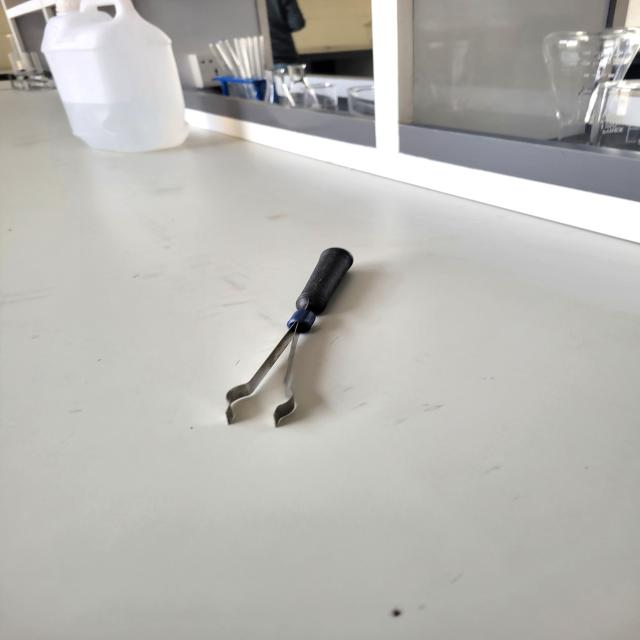TestTube_Holder: (196, 225, 369, 460)
